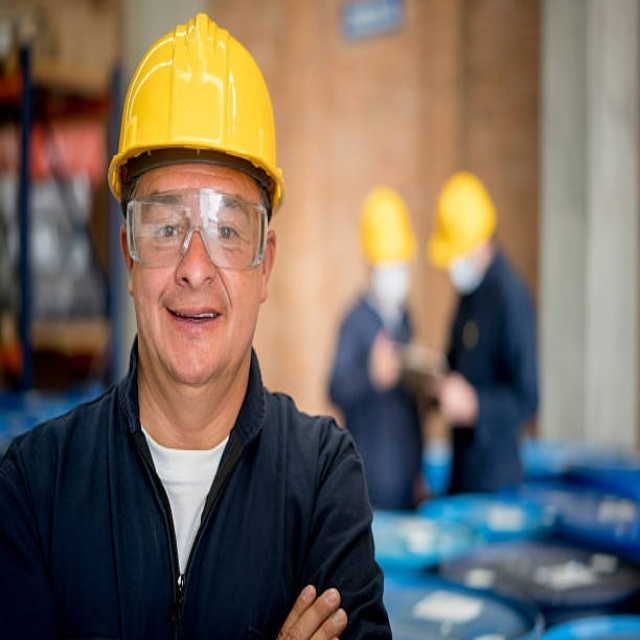Gafas: (122, 187, 267, 268)
Sin_guantes: (276, 579, 355, 638)
Sin_mascara: (156, 289, 231, 372)
